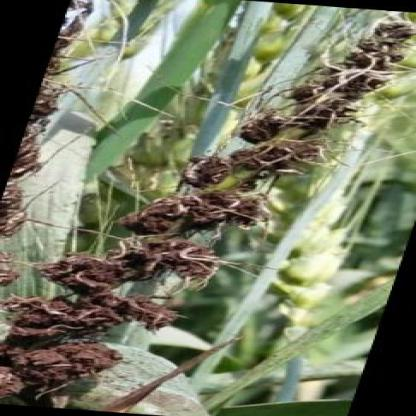Wheat Smut: (4, 347, 59, 393), (8, 298, 62, 342), (134, 240, 215, 268), (292, 88, 344, 124), (53, 258, 115, 285), (325, 57, 386, 83), (136, 210, 201, 232), (68, 302, 112, 334), (66, 344, 110, 376), (207, 198, 258, 224), (248, 147, 304, 168), (192, 156, 224, 182), (132, 297, 165, 322), (42, 78, 66, 110), (2, 189, 18, 230), (376, 23, 409, 40), (248, 124, 276, 141), (0, 254, 14, 283)
